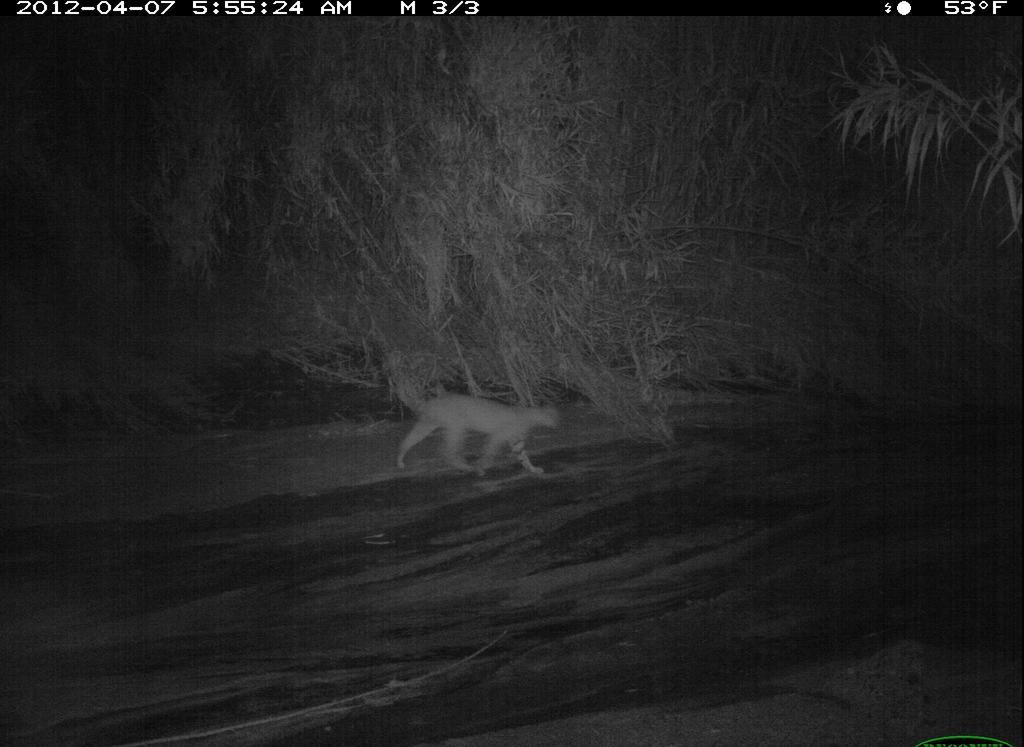bobcat: (383, 374, 577, 478)
